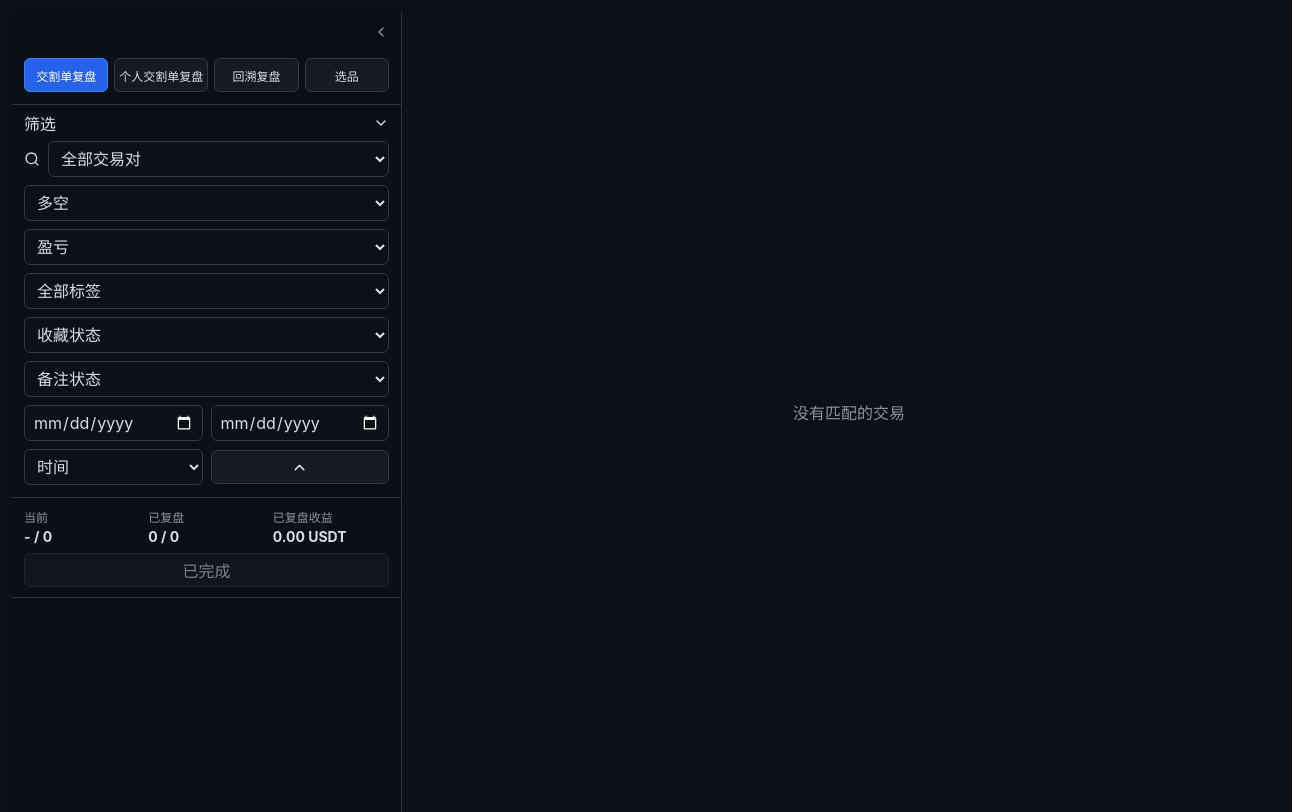
Test: Bitget review module › saving a key then syncing refreshes the queue
Click the button "个人交割单复盘": (161, 75) [114,58,208,92]
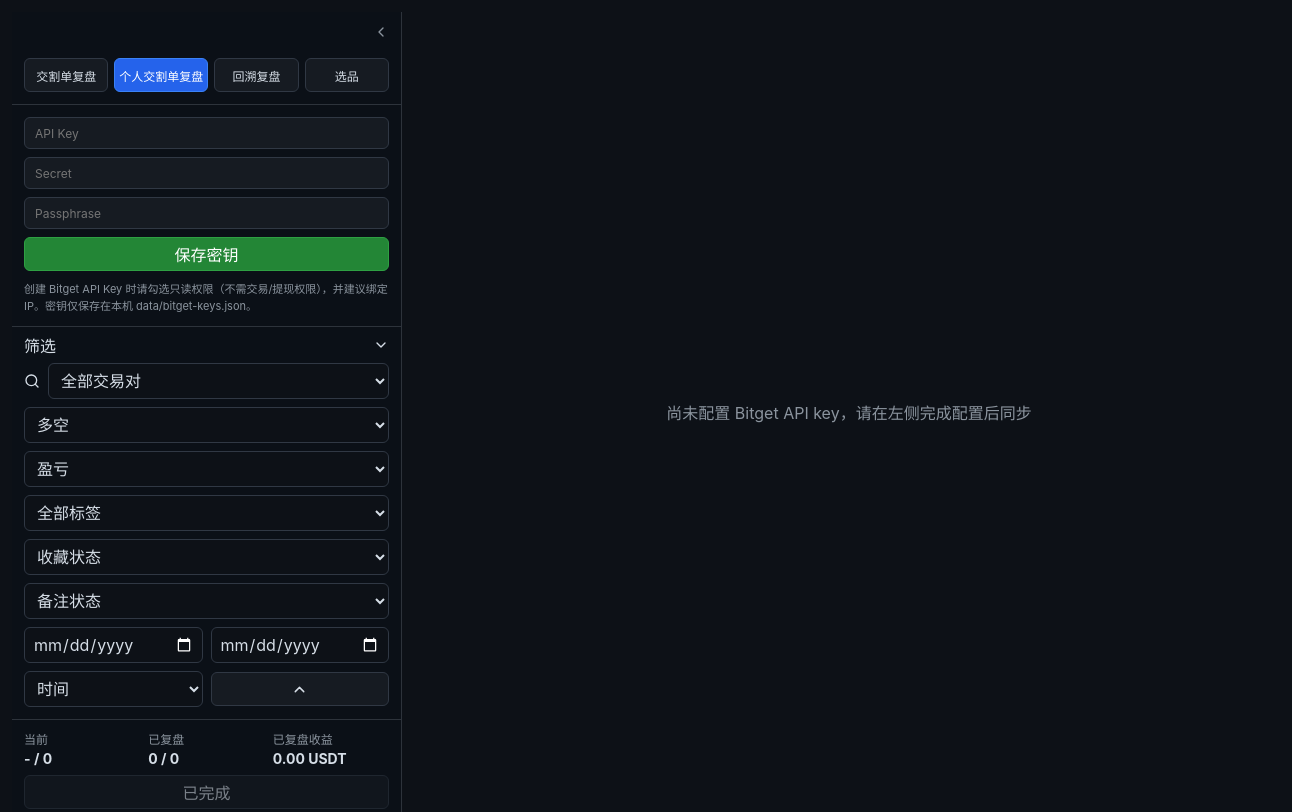
Check: the field with placeholder "API Key" is shown
In the field with placeholder "API Key": (206, 133) [24,117,389,149], type "key"
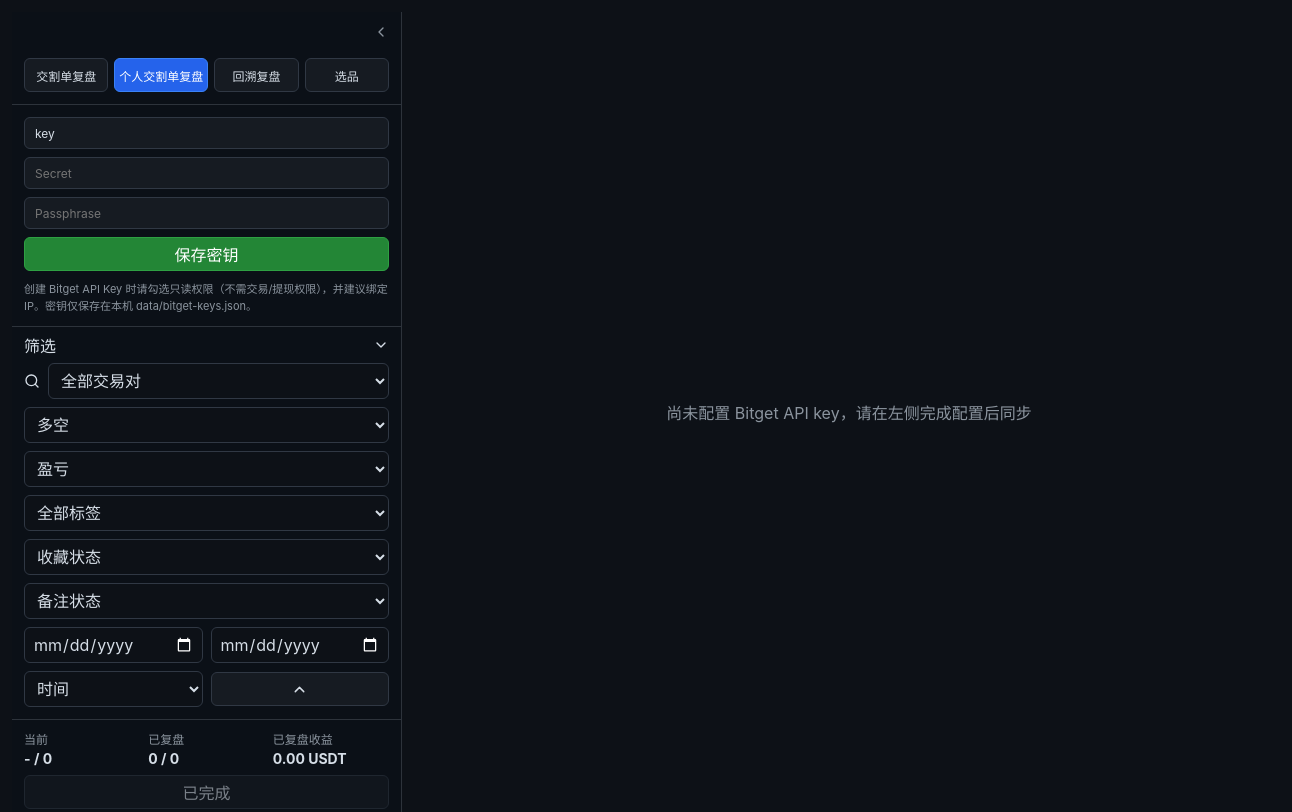
In the password field with placeholder "Secret": (206, 173) [24,157,389,189], type "secret"
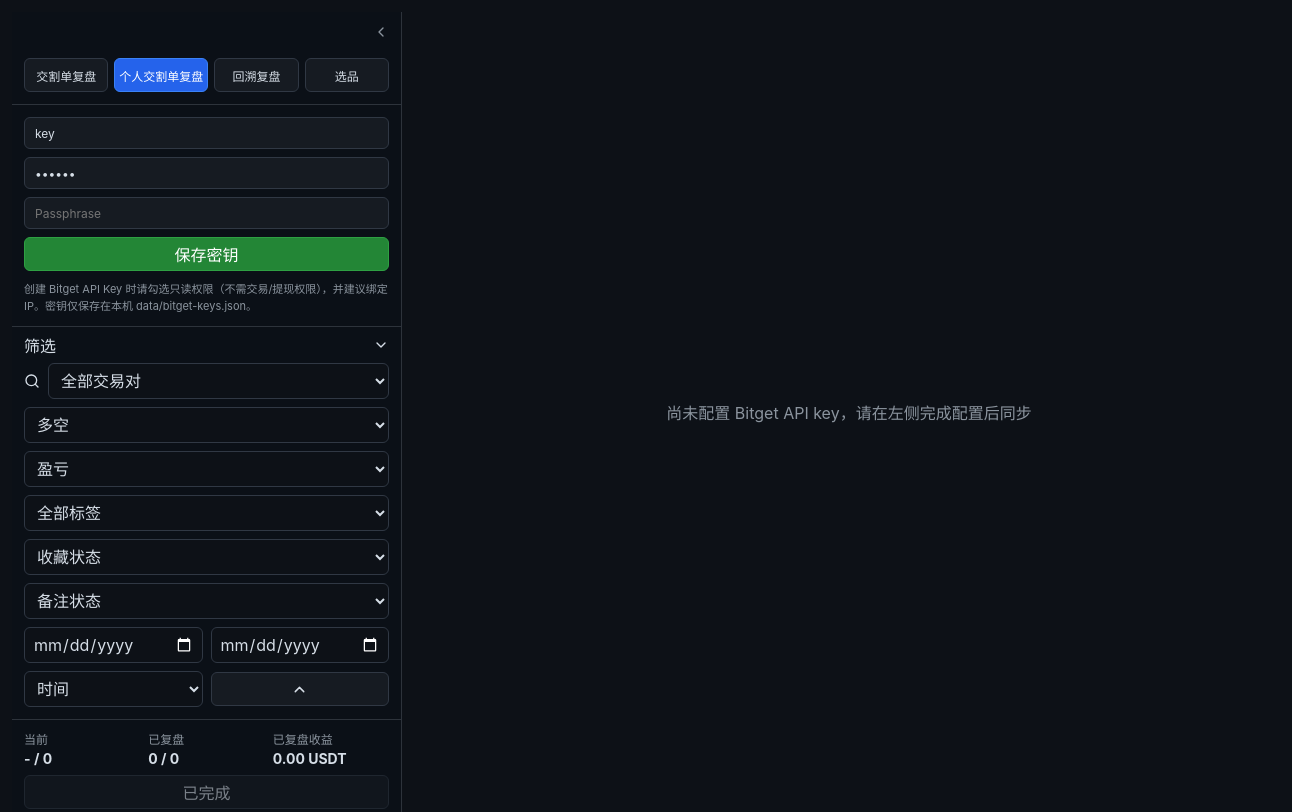
In the password field with placeholder "Passphrase": (206, 213) [24,197,389,229], type "pass"
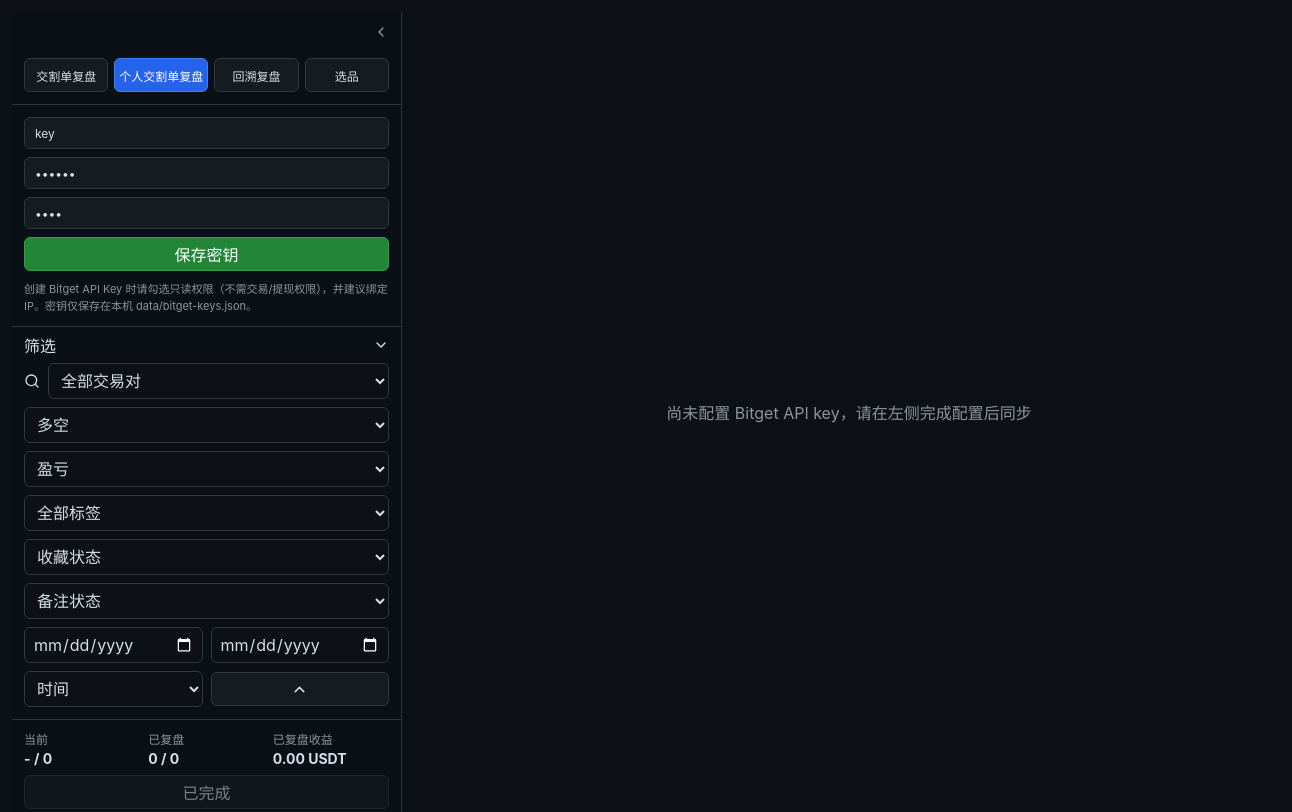
Click the button "保存密钥": (206, 254) [24,237,389,271]
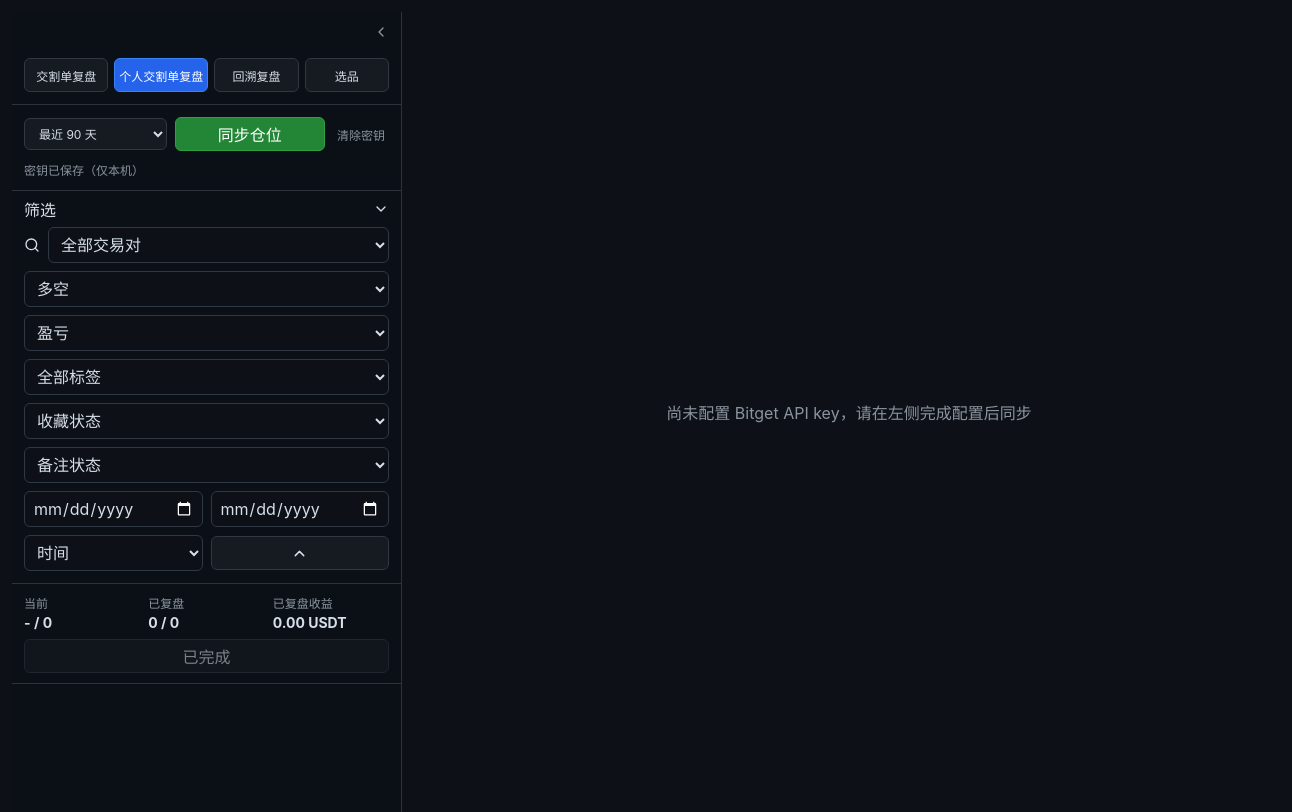
Check: the button "同步仓位" is shown
Click the button "同步仓位": (250, 134) [174,117,325,151]
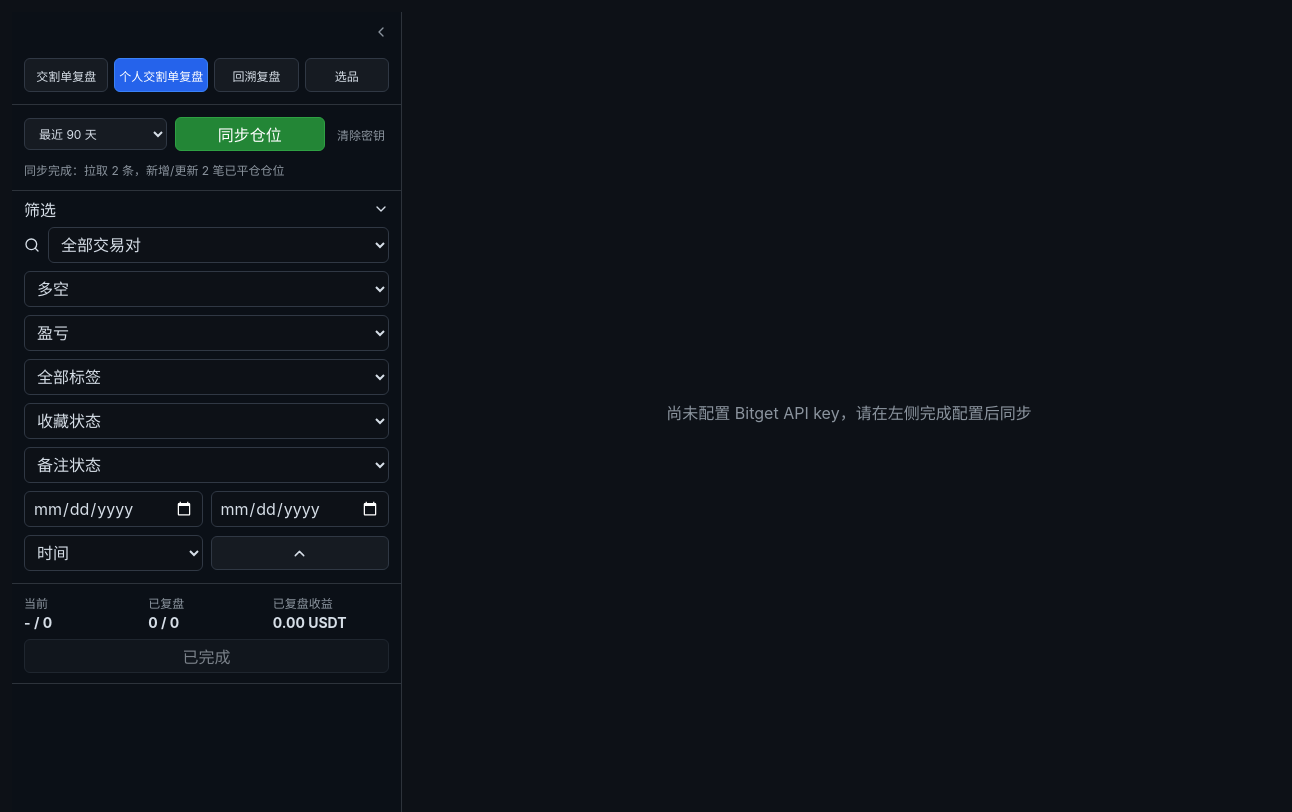
Check: the text "同步完成：拉取 2 条，新增/更新 2 笔已平仓仓位" is shown, box [24,163,284,178]
